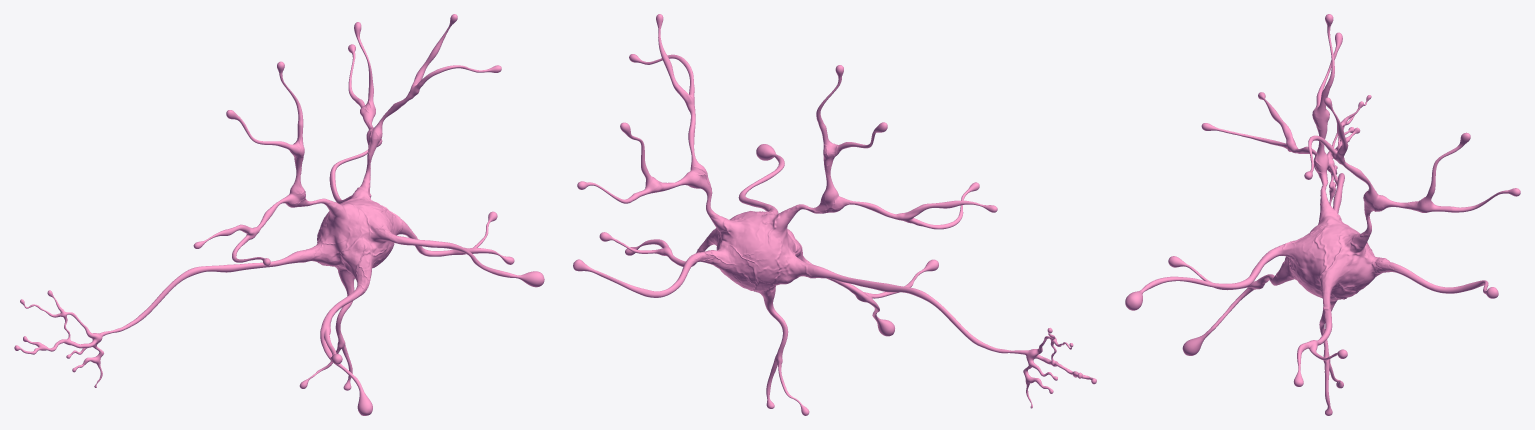
File: neuron.glb
The picture shows the model from 3 angles, left to right: view 1: azimuth 30°, elevation 25°; view 2: azimuth 150°, elevation 25°; view 3: azimuth 270°, elevation 25°; orthographic projection. The views are drawn at different scales.
Parts seen in each view (by area): view 1: Object_2, Object_3; view 2: Object_2, Object_3; view 3: Object_2, Object_3.
Boxes of the visible parts, x1,y1,x2,y2 form: Object_2: [14, 14, 544, 415]; Object_3: [16, 15, 543, 415]; Object_2: [573, 14, 1096, 415]; Object_3: [574, 15, 1094, 415]; Object_2: [1125, 14, 1520, 415]; Object_3: [1126, 14, 1520, 415].
Bounding box in the file's own units: 1.85 × 1.3 × 1.25.
